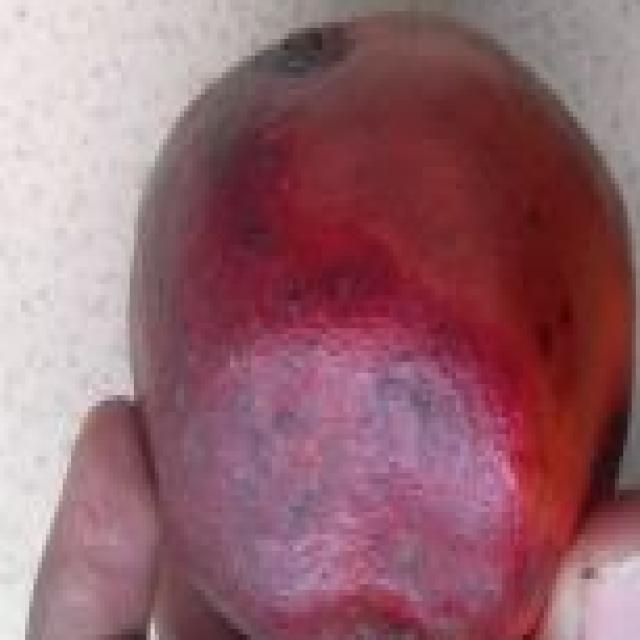Bad_Pomegranate-0-1-day: (130, 17, 636, 640)
